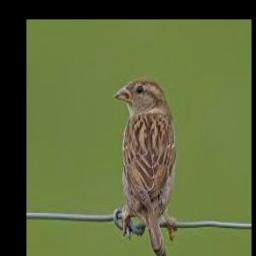Sparrow: (113, 76, 175, 256)
